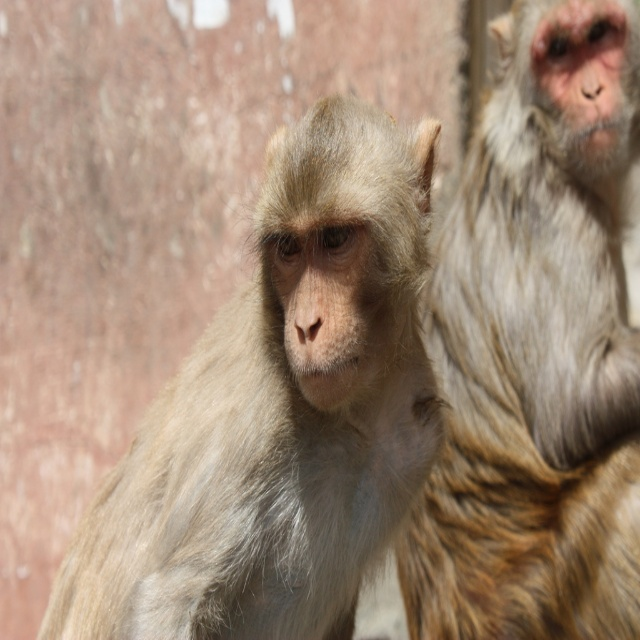Monkey: (36, 89, 457, 640), (383, 0, 640, 640)
